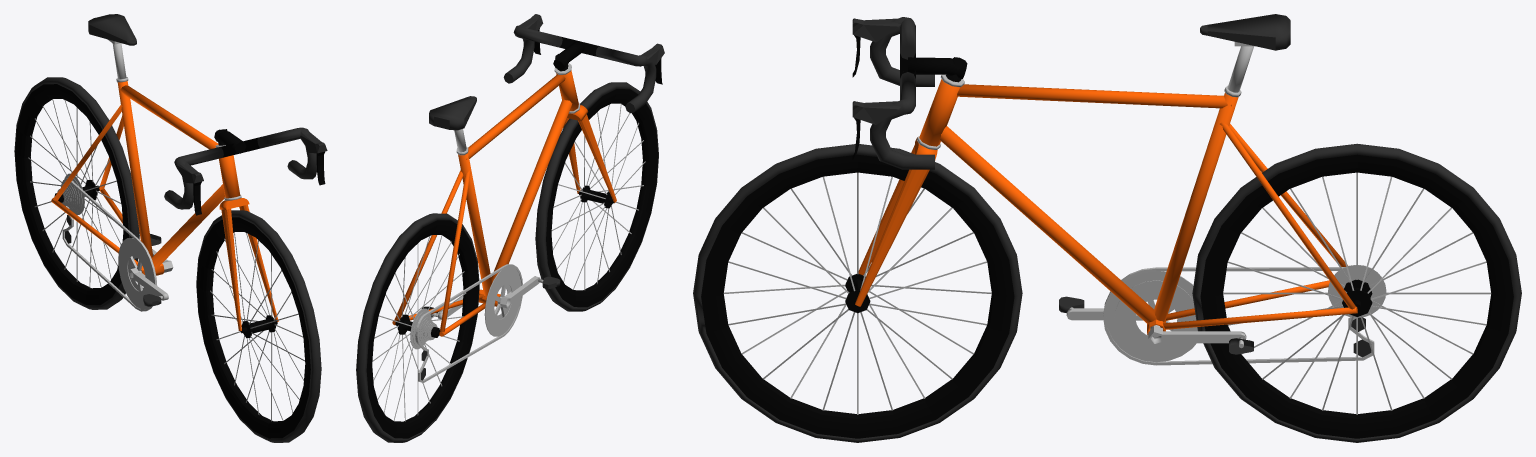
Rendered from velo.dae.
3 views of the same model, side by side, from view 1: azimuth 30°, elevation 25°; view 2: azimuth 150°, elevation 25°; view 3: azimuth 270°, elevation 25° (orthographic). The views are drawn at different scales.
Parts seen in each view (by area): view 1: Wheel_Front, Wheel_Rear, Frame, Cockpit, Crankset, Chain; view 2: Wheel_Rear, Wheel_Front, Frame, Cockpit, Crankset, Chain; view 3: Wheel_Rear, Wheel_Front, Frame, Cockpit, Crankset, Chain.
Part boxes in pixels (x1,y1,x2,y2): Wheel_Front: [196, 210, 321, 442]; Wheel_Rear: [14, 77, 139, 309]; Frame: [51, 14, 241, 275]; Cockpit: [164, 127, 327, 330]; Crankset: [118, 238, 173, 309]; Chain: [61, 178, 157, 311]; Wheel_Rear: [356, 213, 479, 442]; Wheel_Front: [535, 82, 658, 311]; Frame: [392, 63, 580, 336]; Cockpit: [503, 14, 664, 202]; Crankset: [430, 266, 543, 336]; Chain: [415, 264, 522, 382]; Wheel_Rear: [1192, 143, 1521, 442]; Wheel_Front: [693, 144, 1022, 442]; Frame: [917, 14, 1357, 334]; Cockpit: [852, 17, 967, 306]; Crankset: [1066, 271, 1246, 362]; Chain: [1103, 267, 1374, 365].
Bounding box in the file's own units: 0.42 × 1.64 × 0.9131.
